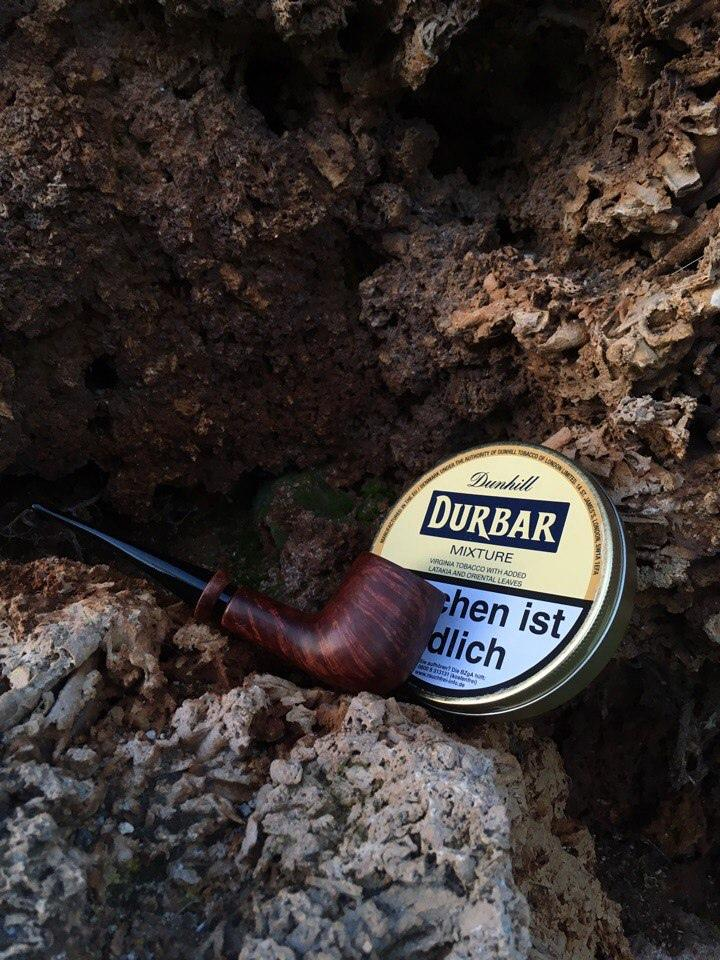trubka: (33, 505, 447, 694)
